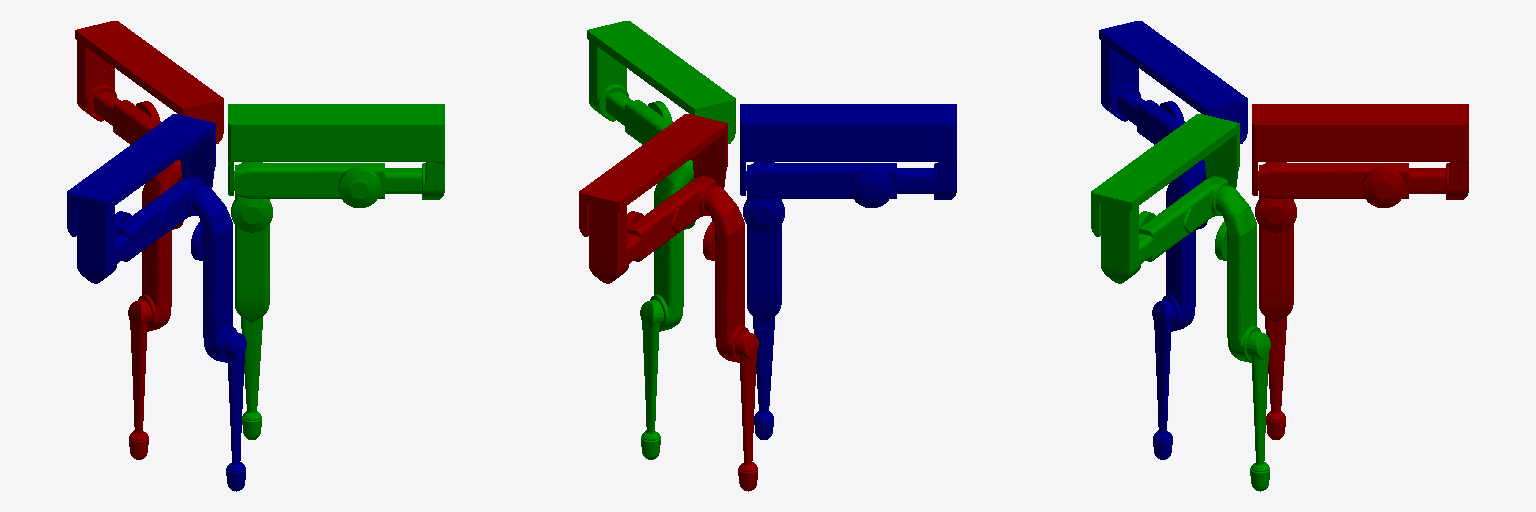
URDF robot description (trifingeredu):
<?xml version="1.0" ?>
<!-- =================================================================================== -->
<!-- |    This document was autogenerated by xacro from robot_properties_fingers/xacro/edu/trifingeredu.urdf.xacro | -->
<!-- |    EDITING THIS FILE BY HAND IS NOT RECOMMENDED                                 | -->
<!-- =================================================================================== -->
<robot name="trifingeredu">
  <!--
    Frames are defined such that they all align with the base frame when all
    joints are at position zero.

    In zero-configuration the origins of all joints are in one line.
    -->
  <!-- Define the global base_link and place all other objects relative to it. -->
  <link name="base_link">
    <inertial>
      <origin rpy="0 0 0" xyz="0 0 0"/>
      <mass value="1"/>
      <inertia ixx="4.166666666666667e-06" ixy="0" ixz="0" iyy="4.166666666666667e-06" iyz="0" izz="4.166666666666667e-06"/>
    </inertial>
  </link>
  <!-- Define the upper holder -->
  <link name="trifinger_base_link">
    <inertial>
      <origin rpy="0 0 0" xyz="0 0 0"/>
      <mass value="1"/>
      <inertia ixx="4.166666666666667e-06" ixy="0" ixz="0" iyy="4.166666666666667e-06" iyz="0" izz="4.166666666666667e-06"/>
    </inertial>
  </link>
  <joint name="base_to_trifinger_base_joint" type="fixed">
    <parent link="base_link"/>
    <child link="trifinger_base_link"/>
    <origin rpy="0 0 -1.5707963267948966" xyz="0 0 0.283"/>
  </joint>
  <material name="fingeredu_0_material">
    <color rgba="0.6 0.0 0.0 1.0"/>
  </material>
  <material name="fingeredu_120_material">
    <color rgba="0.0 0.6 0.0 1.0"/>
  </material>
  <material name="fingeredu_240_material">
    <color rgba="0.0 0.0 0.6 1.0"/>
  </material>
  <!--
        Fixed links for the finger base (parts where the upper link is mounted).
        -->
  <link name="finger_base_link_0">
    <visual>
      <origin rpy="0 0 0" xyz="-0.17995 0 0"/>
      <geometry>
        <mesh filename="package://robot_properties_fingers/meshes/edu/base_back.stl" scale="1 1 1"/>
      </geometry>
      <material name="fingeredu_0_material"/>
    </visual>
    <collision>
      <origin rpy="0 0 0" xyz="-0.17995 0 0"/>
      <geometry>
        <mesh filename="package://robot_properties_fingers/meshes/edu/base_back.stl" scale="1 1 1"/>
      </geometry>
    </collision>
    <visual>
      <origin rpy="0 0 0" xyz="0.025500000000000002 0 0"/>
      <geometry>
        <mesh filename="package://robot_properties_fingers/meshes/edu/base_front.stl" scale="1 1 1"/>
      </geometry>
      <material name="fingeredu_0_material"/>
    </visual>
    <collision>
      <origin rpy="0 0 0" xyz="0.025500000000000002 0 0"/>
      <geometry>
        <mesh filename="package://robot_properties_fingers/meshes/edu/base_front.stl" scale="1 1 1"/>
      </geometry>
    </collision>
    <visual>
      <origin rpy="0 0 0" xyz="0.025500000000000002 0.02 0.08"/>
      <geometry>
        <mesh filename="package://robot_properties_fingers/meshes/edu/base_side_left.stl" scale="1 1 1"/>
      </geometry>
      <material name="fingeredu_0_material"/>
    </visual>
    <collision>
      <origin rpy="0 0 0" xyz="0.025500000000000002 0.02 0.08"/>
      <geometry>
        <mesh filename="package://robot_properties_fingers/meshes/edu/base_side_left.stl" scale="1 1 1"/>
      </geometry>
    </collision>
    <!-- Disable this part.  It is not very relevant for collisions but
                 would cause trouble in pybullet due to its concavity.
            <xacro:add_geometry
                rpy="0 0 0"
                xyz="${offset_x_base_to_front} -0.02 ${offset_z_base_to_top}"
                mesh_file="${mesh_dir}/base_side_right.stl"
                material="${material}" />
            -->
    <visual>
      <origin rpy="0 0 0" xyz="0.025500000000000002 0 0.08"/>
      <geometry>
        <mesh filename="package://robot_properties_fingers/meshes/edu/base_top.stl" scale="1 1 1"/>
      </geometry>
      <material name="fingeredu_0_material"/>
    </visual>
    <collision>
      <origin rpy="0 0 0" xyz="0.025500000000000002 0 0.08"/>
      <geometry>
        <mesh filename="package://robot_properties_fingers/meshes/edu/base_top.stl" scale="1 1 1"/>
      </geometry>
    </collision>
    <inertial>
      <origin rpy="0 0 0" xyz="-0.1 0 0.4"/>
      <mass value="1"/>
      <inertia ixx="0.060833333333333336" ixy="0" ixz="0" iyy="0.05666666666666668" iyz="0" izz="0.010833333333333334"/>
    </inertial>
  </link>
  <!-- The movable links (upper, middle and lower) of the finger. -->
  <!-- FIXME inertias are not correct! -->
  <link name="finger_upper_link_0">
    <visual>
      <origin rpy="0 0 0" xyz="0.0195 0 0"/>
      <geometry>
        <mesh filename="package://robot_properties_fingers/meshes/edu/upper_link.stl" scale="1 1 1"/>
      </geometry>
      <material name="fingeredu_0_material"/>
    </visual>
    <collision>
      <origin rpy="0 0 0" xyz="0.0195 0 0"/>
      <geometry>
        <mesh filename="package://robot_properties_fingers/meshes/edu/upper_link.stl" scale="1 1 1"/>
      </geometry>
    </collision>
    <inertial>
      <!-- Note: This uses the values from the middle link, assuming
                     that it is similar enough. -->
      <!-- CoM is only estimated based -->
      <origin rpy="0 0 0" xyz="-0.079 0 0"/>
      <mass value="0.14854"/>
      <inertia ixx="0.00003" ixy="0.00005" ixz="0.00000" iyy="0.00041" iyz="0.00000" izz="0.00041"/>
    </inertial>
  </link>
  <link name="finger_middle_link_0">
    <visual>
      <origin rpy="0 0 0" xyz="0 0 0"/>
      <geometry>
        <mesh filename="package://robot_properties_fingers/meshes/edu/middle_link.stl" scale="1 1 1"/>
      </geometry>
      <material name="fingeredu_0_material"/>
    </visual>
    <collision>
      <origin rpy="0 0 0" xyz="0 0 0"/>
      <geometry>
        <mesh filename="package://robot_properties_fingers/meshes/edu/middle_link.stl" scale="1 1 1"/>
      </geometry>
    </collision>
    <inertial>
      <origin rpy="0 0 0" xyz="0 -0.019 -0.079"/>
      <mass value="0.14854"/>
      <inertia ixx="0.00041" ixy="0.00000" ixz="0.00000" iyy="0.00041" iyz="0.00005" izz="0.00003"/>
    </inertial>
  </link>
  <link name="finger_lower_link_0">
    <visual>
      <origin rpy="0 0 0" xyz="0 0 0"/>
      <geometry>
        <mesh filename="package://robot_properties_fingers/meshes/edu/lower_link.stl" scale="1 1 1"/>
      </geometry>
      <material name="fingeredu_0_material"/>
    </visual>
    <collision>
      <origin rpy="0 0 0" xyz="0 0 0"/>
      <geometry>
        <mesh filename="package://robot_properties_fingers/meshes/edu/lower_link.stl" scale="1 1 1"/>
      </geometry>
    </collision>
    <!-- TODO: these are the interial values from the Solo lower leg
                 link which is similar but not exactly the same to the FingerEdu
                 lower link. -->
    <inertial>
      <origin rpy="0 0 0" xyz="0 -0.009 -0.089"/>
      <mass value="0.03070"/>
      <inertia ixx="0.00012" ixy="0.00000" ixz="0.00000" iyy="0.00012" iyz="0.00000" izz="0.00000"/>
    </inertial>
  </link>
  <!-- fixed link for finger tip -->
  <link name="finger_tip_link_0">
    <inertial>
      <origin rpy="0 0 0" xyz="0 0 0"/>
      <mass value="0.01"/>
      <inertia ixx="1.6666666666666668e-07" ixy="0" ixz="0" iyy="1.6666666666666668e-07" iyz="0" izz="1.6666666666666668e-07"/>
    </inertial>
  </link>
  <joint name="finger_lower_to_tip_joint_0" type="fixed">
    <parent link="finger_lower_link_0"/>
    <child link="finger_tip_link_0"/>
    <origin xyz="0 -0.008 -0.16"/>
  </joint>
  <!-- kinematics -->
  <joint name="finger_base_to_upper_joint_0" type="revolute">
    <parent link="finger_base_link_0"/>
    <child link="finger_upper_link_0"/>
    <limit effort="1000" lower="-1.5707963267948966" upper="1.5707963267948966" velocity="1000"/>
    <axis xyz="-1 0 0"/>
    <origin rpy="0 0 0" xyz="0 0 0"/>
  </joint>
  <joint name="finger_upper_to_middle_joint_0" type="revolute">
    <parent link="finger_upper_link_0"/>
    <child link="finger_middle_link_0"/>
    <limit effort="1000" lower="-1.5707963267948966" upper="1.5707963267948966" velocity="1000"/>
    <axis xyz="0 1 0"/>
    <origin rpy="0 0 0" xyz="0 -0.014 0"/>
  </joint>
  <joint name="finger_middle_to_lower_joint_0" type="revolute">
    <parent link="finger_middle_link_0"/>
    <child link="finger_lower_link_0"/>
    <limit effort="1000" lower="-3.141592653589793" upper="3.141592653589793" velocity="1000"/>
    <axis xyz="0 1 0"/>
    <origin rpy="0 0 0" xyz="0 -0.03745 -0.16"/>
  </joint>
  <!--
        Fixed links for the finger base (parts where the upper link is mounted).
        -->
  <link name="finger_base_link_120">
    <visual>
      <origin rpy="0 0 0" xyz="-0.17995 0 0"/>
      <geometry>
        <mesh filename="package://robot_properties_fingers/meshes/edu/base_back.stl" scale="1 1 1"/>
      </geometry>
      <material name="fingeredu_120_material"/>
    </visual>
    <collision>
      <origin rpy="0 0 0" xyz="-0.17995 0 0"/>
      <geometry>
        <mesh filename="package://robot_properties_fingers/meshes/edu/base_back.stl" scale="1 1 1"/>
      </geometry>
    </collision>
    <visual>
      <origin rpy="0 0 0" xyz="0.025500000000000002 0 0"/>
      <geometry>
        <mesh filename="package://robot_properties_fingers/meshes/edu/base_front.stl" scale="1 1 1"/>
      </geometry>
      <material name="fingeredu_120_material"/>
    </visual>
    <collision>
      <origin rpy="0 0 0" xyz="0.025500000000000002 0 0"/>
      <geometry>
        <mesh filename="package://robot_properties_fingers/meshes/edu/base_front.stl" scale="1 1 1"/>
      </geometry>
    </collision>
    <visual>
      <origin rpy="0 0 0" xyz="0.025500000000000002 0.02 0.08"/>
      <geometry>
        <mesh filename="package://robot_properties_fingers/meshes/edu/base_side_left.stl" scale="1 1 1"/>
      </geometry>
      <material name="fingeredu_120_material"/>
    </visual>
    <collision>
      <origin rpy="0 0 0" xyz="0.025500000000000002 0.02 0.08"/>
      <geometry>
        <mesh filename="package://robot_properties_fingers/meshes/edu/base_side_left.stl" scale="1 1 1"/>
      </geometry>
    </collision>
    <!-- Disable this part.  It is not very relevant for collisions but
                 would cause trouble in pybullet due to its concavity.
            <xacro:add_geometry
                rpy="0 0 0"
                xyz="${offset_x_base_to_front} -0.02 ${offset_z_base_to_top}"
                mesh_file="${mesh_dir}/base_side_right.stl"
                material="${material}" />
            -->
    <visual>
      <origin rpy="0 0 0" xyz="0.025500000000000002 0 0.08"/>
      <geometry>
        <mesh filename="package://robot_properties_fingers/meshes/edu/base_top.stl" scale="1 1 1"/>
      </geometry>
      <material name="fingeredu_120_material"/>
    </visual>
    <collision>
      <origin rpy="0 0 0" xyz="0.025500000000000002 0 0.08"/>
      <geometry>
        <mesh filename="package://robot_properties_fingers/meshes/edu/base_top.stl" scale="1 1 1"/>
      </geometry>
    </collision>
    <inertial>
      <origin rpy="0 0 0" xyz="-0.1 0 0.4"/>
      <mass value="1"/>
      <inertia ixx="0.060833333333333336" ixy="0" ixz="0" iyy="0.05666666666666668" iyz="0" izz="0.010833333333333334"/>
    </inertial>
  </link>
  <!-- The movable links (upper, middle and lower) of the finger. -->
  <!-- FIXME inertias are not correct! -->
  <link name="finger_upper_link_120">
    <visual>
      <origin rpy="0 0 0" xyz="0.0195 0 0"/>
      <geometry>
        <mesh filename="package://robot_properties_fingers/meshes/edu/upper_link.stl" scale="1 1 1"/>
      </geometry>
      <material name="fingeredu_120_material"/>
    </visual>
    <collision>
      <origin rpy="0 0 0" xyz="0.0195 0 0"/>
      <geometry>
        <mesh filename="package://robot_properties_fingers/meshes/edu/upper_link.stl" scale="1 1 1"/>
      </geometry>
    </collision>
    <inertial>
      <!-- Note: This uses the values from the middle link, assuming
                     that it is similar enough. -->
      <!-- CoM is only estimated based -->
      <origin rpy="0 0 0" xyz="-0.079 0 0"/>
      <mass value="0.14854"/>
      <inertia ixx="0.00003" ixy="0.00005" ixz="0.00000" iyy="0.00041" iyz="0.00000" izz="0.00041"/>
    </inertial>
  </link>
  <link name="finger_middle_link_120">
    <visual>
      <origin rpy="0 0 0" xyz="0 0 0"/>
      <geometry>
        <mesh filename="package://robot_properties_fingers/meshes/edu/middle_link.stl" scale="1 1 1"/>
      </geometry>
      <material name="fingeredu_120_material"/>
    </visual>
    <collision>
      <origin rpy="0 0 0" xyz="0 0 0"/>
      <geometry>
        <mesh filename="package://robot_properties_fingers/meshes/edu/middle_link.stl" scale="1 1 1"/>
      </geometry>
    </collision>
    <inertial>
      <origin rpy="0 0 0" xyz="0 -0.019 -0.079"/>
      <mass value="0.14854"/>
      <inertia ixx="0.00041" ixy="0.00000" ixz="0.00000" iyy="0.00041" iyz="0.00005" izz="0.00003"/>
    </inertial>
  </link>
  <link name="finger_lower_link_120">
    <visual>
      <origin rpy="0 0 0" xyz="0 0 0"/>
      <geometry>
        <mesh filename="package://robot_properties_fingers/meshes/edu/lower_link.stl" scale="1 1 1"/>
      </geometry>
      <material name="fingeredu_120_material"/>
    </visual>
    <collision>
      <origin rpy="0 0 0" xyz="0 0 0"/>
      <geometry>
        <mesh filename="package://robot_properties_fingers/meshes/edu/lower_link.stl" scale="1 1 1"/>
      </geometry>
    </collision>
    <!-- TODO: these are the interial values from the Solo lower leg
                 link which is similar but not exactly the same to the FingerEdu
                 lower link. -->
    <inertial>
      <origin rpy="0 0 0" xyz="0 -0.009 -0.089"/>
      <mass value="0.03070"/>
      <inertia ixx="0.00012" ixy="0.00000" ixz="0.00000" iyy="0.00012" iyz="0.00000" izz="0.00000"/>
    </inertial>
  </link>
  <!-- fixed link for finger tip -->
  <link name="finger_tip_link_120">
    <inertial>
      <origin rpy="0 0 0" xyz="0 0 0"/>
      <mass value="0.01"/>
      <inertia ixx="1.6666666666666668e-07" ixy="0" ixz="0" iyy="1.6666666666666668e-07" iyz="0" izz="1.6666666666666668e-07"/>
    </inertial>
  </link>
  <joint name="finger_lower_to_tip_joint_120" type="fixed">
    <parent link="finger_lower_link_120"/>
    <child link="finger_tip_link_120"/>
    <origin xyz="0 -0.008 -0.16"/>
  </joint>
  <!-- kinematics -->
  <joint name="finger_base_to_upper_joint_120" type="revolute">
    <parent link="finger_base_link_120"/>
    <child link="finger_upper_link_120"/>
    <limit effort="1000" lower="-1.5707963267948966" upper="1.5707963267948966" velocity="1000"/>
    <axis xyz="-1 0 0"/>
    <origin rpy="0 0 0" xyz="0 0 0"/>
  </joint>
  <joint name="finger_upper_to_middle_joint_120" type="revolute">
    <parent link="finger_upper_link_120"/>
    <child link="finger_middle_link_120"/>
    <limit effort="1000" lower="-1.5707963267948966" upper="1.5707963267948966" velocity="1000"/>
    <axis xyz="0 1 0"/>
    <origin rpy="0 0 0" xyz="0 -0.014 0"/>
  </joint>
  <joint name="finger_middle_to_lower_joint_120" type="revolute">
    <parent link="finger_middle_link_120"/>
    <child link="finger_lower_link_120"/>
    <limit effort="1000" lower="-3.141592653589793" upper="3.141592653589793" velocity="1000"/>
    <axis xyz="0 1 0"/>
    <origin rpy="0 0 0" xyz="0 -0.03745 -0.16"/>
  </joint>
  <!--
        Fixed links for the finger base (parts where the upper link is mounted).
        -->
  <link name="finger_base_link_240">
    <visual>
      <origin rpy="0 0 0" xyz="-0.17995 0 0"/>
      <geometry>
        <mesh filename="package://robot_properties_fingers/meshes/edu/base_back.stl" scale="1 1 1"/>
      </geometry>
      <material name="fingeredu_240_material"/>
    </visual>
    <collision>
      <origin rpy="0 0 0" xyz="-0.17995 0 0"/>
      <geometry>
        <mesh filename="package://robot_properties_fingers/meshes/edu/base_back.stl" scale="1 1 1"/>
      </geometry>
    </collision>
    <visual>
      <origin rpy="0 0 0" xyz="0.025500000000000002 0 0"/>
      <geometry>
        <mesh filename="package://robot_properties_fingers/meshes/edu/base_front.stl" scale="1 1 1"/>
      </geometry>
      <material name="fingeredu_240_material"/>
    </visual>
    <collision>
      <origin rpy="0 0 0" xyz="0.025500000000000002 0 0"/>
      <geometry>
        <mesh filename="package://robot_properties_fingers/meshes/edu/base_front.stl" scale="1 1 1"/>
      </geometry>
    </collision>
    <visual>
      <origin rpy="0 0 0" xyz="0.025500000000000002 0.02 0.08"/>
      <geometry>
        <mesh filename="package://robot_properties_fingers/meshes/edu/base_side_left.stl" scale="1 1 1"/>
      </geometry>
      <material name="fingeredu_240_material"/>
    </visual>
    <collision>
      <origin rpy="0 0 0" xyz="0.025500000000000002 0.02 0.08"/>
      <geometry>
        <mesh filename="package://robot_properties_fingers/meshes/edu/base_side_left.stl" scale="1 1 1"/>
      </geometry>
    </collision>
    <!-- Disable this part.  It is not very relevant for collisions but
                 would cause trouble in pybullet due to its concavity.
            <xacro:add_geometry
                rpy="0 0 0"
                xyz="${offset_x_base_to_front} -0.02 ${offset_z_base_to_top}"
                mesh_file="${mesh_dir}/base_side_right.stl"
                material="${material}" />
            -->
    <visual>
      <origin rpy="0 0 0" xyz="0.025500000000000002 0 0.08"/>
      <geometry>
        <mesh filename="package://robot_properties_fingers/meshes/edu/base_top.stl" scale="1 1 1"/>
      </geometry>
      <material name="fingeredu_240_material"/>
    </visual>
    <collision>
      <origin rpy="0 0 0" xyz="0.025500000000000002 0 0.08"/>
      <geometry>
        <mesh filename="package://robot_properties_fingers/meshes/edu/base_top.stl" scale="1 1 1"/>
      </geometry>
    </collision>
    <inertial>
      <origin rpy="0 0 0" xyz="-0.1 0 0.4"/>
      <mass value="1"/>
      <inertia ixx="0.060833333333333336" ixy="0" ixz="0" iyy="0.05666666666666668" iyz="0" izz="0.010833333333333334"/>
    </inertial>
  </link>
  <!-- The movable links (upper, middle and lower) of the finger. -->
  <!-- FIXME inertias are not correct! -->
  <link name="finger_upper_link_240">
    <visual>
      <origin rpy="0 0 0" xyz="0.0195 0 0"/>
      <geometry>
        <mesh filename="package://robot_properties_fingers/meshes/edu/upper_link.stl" scale="1 1 1"/>
      </geometry>
      <material name="fingeredu_240_material"/>
    </visual>
    <collision>
      <origin rpy="0 0 0" xyz="0.0195 0 0"/>
      <geometry>
        <mesh filename="package://robot_properties_fingers/meshes/edu/upper_link.stl" scale="1 1 1"/>
      </geometry>
    </collision>
    <inertial>
      <!-- Note: This uses the values from the middle link, assuming
                     that it is similar enough. -->
      <!-- CoM is only estimated based -->
      <origin rpy="0 0 0" xyz="-0.079 0 0"/>
      <mass value="0.14854"/>
      <inertia ixx="0.00003" ixy="0.00005" ixz="0.00000" iyy="0.00041" iyz="0.00000" izz="0.00041"/>
    </inertial>
  </link>
  <link name="finger_middle_link_240">
    <visual>
      <origin rpy="0 0 0" xyz="0 0 0"/>
      <geometry>
        <mesh filename="package://robot_properties_fingers/meshes/edu/middle_link.stl" scale="1 1 1"/>
      </geometry>
      <material name="fingeredu_240_material"/>
    </visual>
    <collision>
      <origin rpy="0 0 0" xyz="0 0 0"/>
      <geometry>
        <mesh filename="package://robot_properties_fingers/meshes/edu/middle_link.stl" scale="1 1 1"/>
      </geometry>
    </collision>
    <inertial>
      <origin rpy="0 0 0" xyz="0 -0.019 -0.079"/>
      <mass value="0.14854"/>
      <inertia ixx="0.00041" ixy="0.00000" ixz="0.00000" iyy="0.00041" iyz="0.00005" izz="0.00003"/>
    </inertial>
  </link>
  <link name="finger_lower_link_240">
    <visual>
      <origin rpy="0 0 0" xyz="0 0 0"/>
      <geometry>
        <mesh filename="package://robot_properties_fingers/meshes/edu/lower_link.stl" scale="1 1 1"/>
      </geometry>
      <material name="fingeredu_240_material"/>
    </visual>
    <collision>
      <origin rpy="0 0 0" xyz="0 0 0"/>
      <geometry>
        <mesh filename="package://robot_properties_fingers/meshes/edu/lower_link.stl" scale="1 1 1"/>
      </geometry>
    </collision>
    <!-- TODO: these are the interial values from the Solo lower leg
                 link which is similar but not exactly the same to the FingerEdu
                 lower link. -->
    <inertial>
      <origin rpy="0 0 0" xyz="0 -0.009 -0.089"/>
      <mass value="0.03070"/>
      <inertia ixx="0.00012" ixy="0.00000" ixz="0.00000" iyy="0.00012" iyz="0.00000" izz="0.00000"/>
    </inertial>
  </link>
  <!-- fixed link for finger tip -->
  <link name="finger_tip_link_240">
    <inertial>
      <origin rpy="0 0 0" xyz="0 0 0"/>
      <mass value="0.01"/>
      <inertia ixx="1.6666666666666668e-07" ixy="0" ixz="0" iyy="1.6666666666666668e-07" iyz="0" izz="1.6666666666666668e-07"/>
    </inertial>
  </link>
  <joint name="finger_lower_to_tip_joint_240" type="fixed">
    <parent link="finger_lower_link_240"/>
    <child link="finger_tip_link_240"/>
    <origin xyz="0 -0.008 -0.16"/>
  </joint>
  <!-- kinematics -->
  <joint name="finger_base_to_upper_joint_240" type="revolute">
    <parent link="finger_base_link_240"/>
    <child link="finger_upper_link_240"/>
    <limit effort="1000" lower="-1.5707963267948966" upper="1.5707963267948966" velocity="1000"/>
    <axis xyz="-1 0 0"/>
    <origin rpy="0 0 0" xyz="0 0 0"/>
  </joint>
  <joint name="finger_upper_to_middle_joint_240" type="revolute">
    <parent link="finger_upper_link_240"/>
    <child link="finger_middle_link_240"/>
    <limit effort="1000" lower="-1.5707963267948966" upper="1.5707963267948966" velocity="1000"/>
    <axis xyz="0 1 0"/>
    <origin rpy="0 0 0" xyz="0 -0.014 0"/>
  </joint>
  <joint name="finger_middle_to_lower_joint_240" type="revolute">
    <parent link="finger_middle_link_240"/>
    <child link="finger_lower_link_240"/>
    <limit effort="1000" lower="-3.141592653589793" upper="3.141592653589793" velocity="1000"/>
    <axis xyz="0 1 0"/>
    <origin rpy="0 0 0" xyz="0 -0.03745 -0.16"/>
  </joint>
  <joint name="base_to_finger_0" type="fixed">
    <parent link="trifinger_base_link"/>
    <child link="finger_base_link_0"/>
    <origin rpy="0 0 0" xyz="-0.0455 0.0 0"/>
  </joint>
  <joint name="base_to_finger_120" type="fixed">
    <parent link="trifinger_base_link"/>
    <child link="finger_base_link_120"/>
    <origin rpy="0 0 -2.0943951023931953" xyz="0.02274999999999999 0.03940415587219196 0"/>
  </joint>
  <joint name="base_to_finger_240" type="fixed">
    <parent link="trifinger_base_link"/>
    <child link="finger_base_link_240"/>
    <origin rpy="0 0 -4.1887902047863905" xyz="0.02275000000000002 -0.03940415587219195 0"/>
  </joint>
</robot>

--- What the picture shows (computed from the rendered views, not written in the file) ---
Views: 3 orthographic renders of the robot side by side, from view 1: azimuth 30°, elevation 25°; view 2: azimuth 150°, elevation 25°; view 3: azimuth 270°, elevation 25°.
Model trifingeredu with 17 links and 16 joints (9 revolute, 7 fixed), rooted at base_link, posed all joints at 0.
Visible links, largest first — view 1: finger_base_link_120, finger_base_link_240, finger_base_link_0, finger_upper_link_120, finger_middle_link_240, finger_middle_link_120, finger_upper_link_240, finger_middle_link_0, finger_lower_link_0, finger_lower_link_240, finger_upper_link_0, finger_lower_link_120; view 2: finger_base_link_240, finger_base_link_0, finger_base_link_120, finger_upper_link_240, finger_middle_link_0, finger_middle_link_240, finger_upper_link_0, finger_middle_link_120, finger_lower_link_0, finger_lower_link_120, finger_upper_link_120, finger_lower_link_240; view 3: finger_base_link_0, finger_base_link_120, finger_base_link_240, finger_upper_link_0, finger_middle_link_120, finger_middle_link_0, finger_upper_link_120, finger_middle_link_240, finger_lower_link_120, finger_lower_link_240, finger_upper_link_240, finger_lower_link_0.
Link boxes in pixels (box(x1,y1,x2,y2)): finger_base_link_120: box(228, 104, 444, 199); finger_base_link_240: box(67, 114, 215, 283); finger_base_link_0: box(75, 21, 223, 143); finger_upper_link_120: box(234, 162, 421, 207); finger_middle_link_240: box(191, 185, 236, 362); finger_middle_link_120: box(231, 197, 272, 321); finger_upper_link_240: box(115, 176, 205, 263); finger_middle_link_0: box(138, 160, 183, 331); finger_lower_link_0: box(128, 300, 151, 459); finger_lower_link_240: box(223, 331, 246, 491); finger_upper_link_0: box(94, 92, 160, 144); finger_lower_link_120: box(241, 317, 262, 439); finger_base_link_240: box(740, 104, 956, 199); finger_base_link_0: box(579, 114, 727, 283); finger_base_link_120: box(587, 21, 735, 143); finger_upper_link_240: box(746, 162, 933, 207); finger_middle_link_0: box(703, 185, 748, 362); finger_middle_link_240: box(743, 197, 784, 321); finger_upper_link_0: box(627, 176, 717, 263); finger_middle_link_120: box(650, 160, 695, 331); finger_lower_link_0: box(735, 331, 758, 491); finger_lower_link_120: box(640, 300, 663, 459); finger_upper_link_120: box(606, 92, 672, 144); finger_lower_link_240: box(753, 317, 774, 439); finger_base_link_0: box(1252, 104, 1468, 199); finger_base_link_120: box(1091, 114, 1239, 283); finger_base_link_240: box(1099, 21, 1247, 143); finger_upper_link_0: box(1258, 162, 1445, 207); finger_middle_link_120: box(1215, 185, 1260, 362); finger_middle_link_0: box(1255, 197, 1296, 321); finger_upper_link_120: box(1139, 176, 1229, 263); finger_middle_link_240: box(1162, 160, 1207, 331); finger_lower_link_120: box(1247, 331, 1270, 491); finger_lower_link_240: box(1152, 300, 1175, 459); finger_upper_link_240: box(1118, 92, 1184, 144); finger_lower_link_0: box(1265, 317, 1286, 439).
Size in the robot's own frame: 0.4561 by 0.3995 by 0.4095 metres.
21 mesh visuals loaded from 7 distinct referenced files (7 binary STL).
